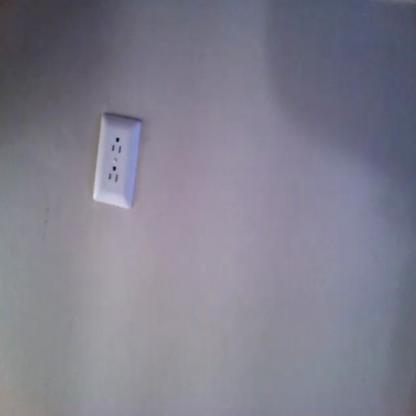OUTLET: (90, 113, 144, 209)
